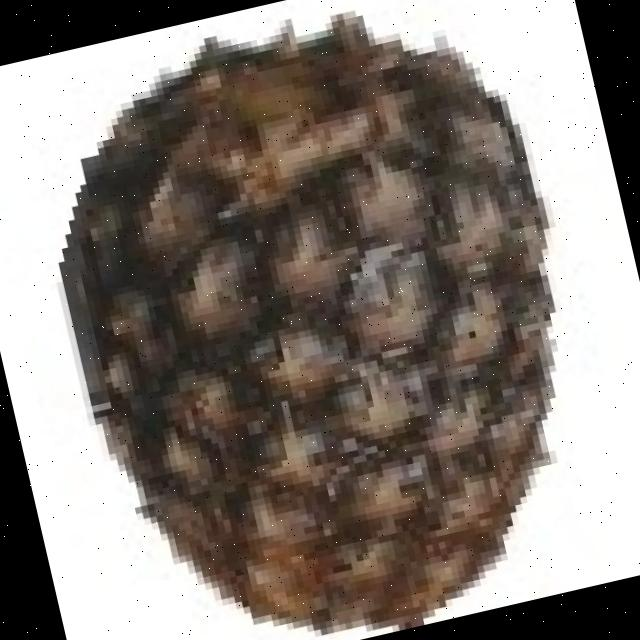pineapple: (74, 26, 562, 637)
